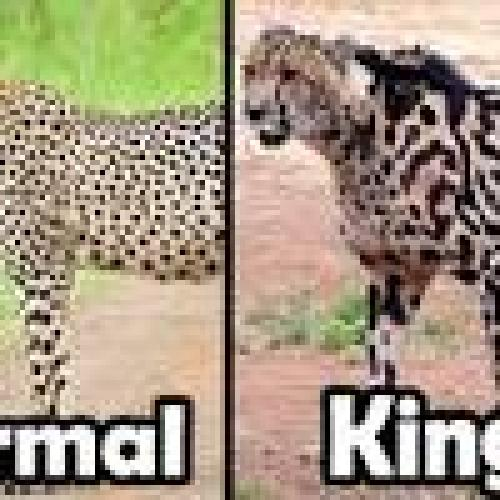cheetah-endangered: (243, 26, 500, 391), (3, 77, 220, 438)
